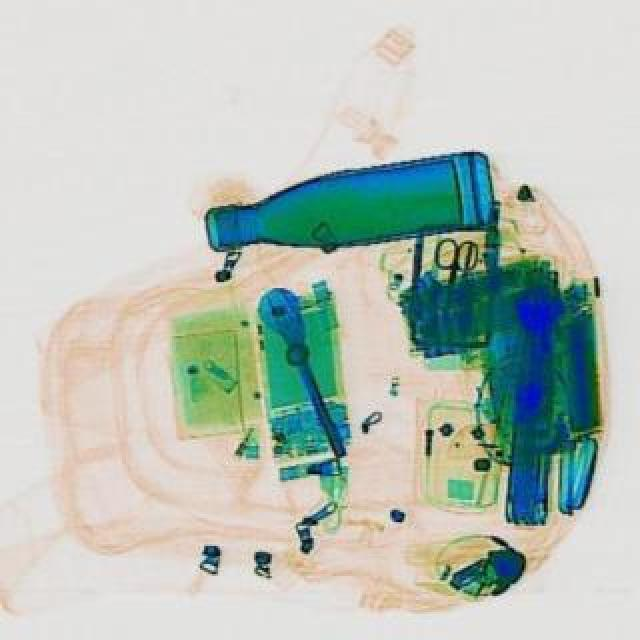pliers: (420, 234, 480, 326)
